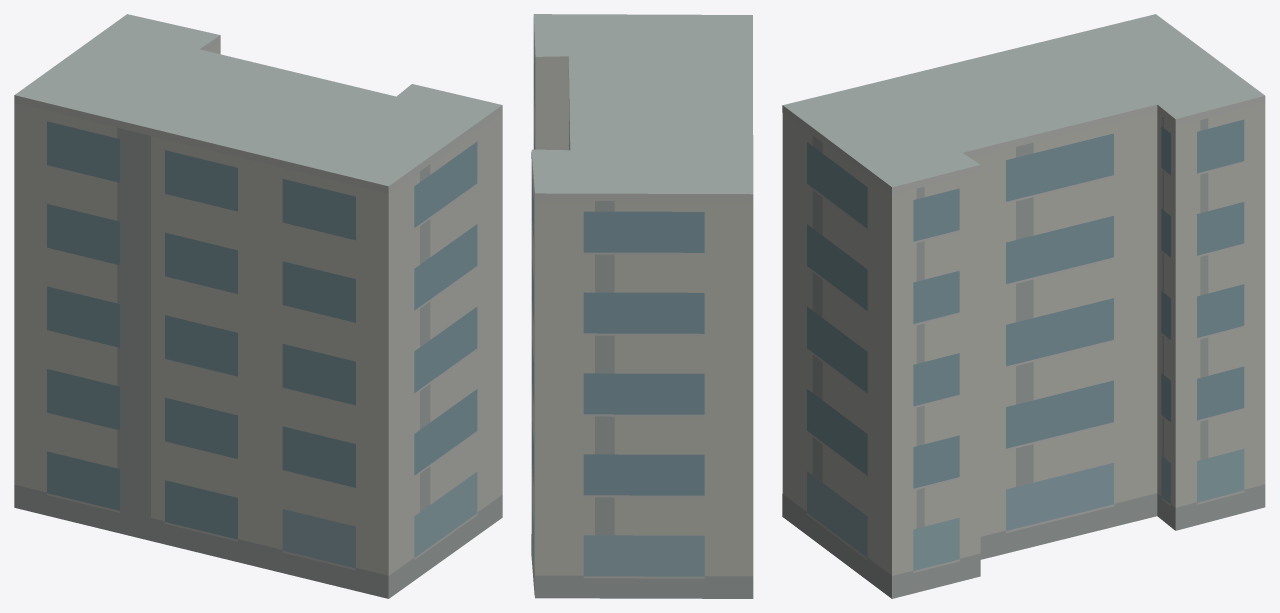
Rendered from survey-upis-32722772.glb.
3 views of the same model, side by side, from view 1: azimuth 30°, elevation 25°; view 2: azimuth 150°, elevation 25°; view 3: azimuth 270°, elevation 25° (orthographic).
Parts seen in each view (by area): view 1: survey-upis-32722772.tmp; view 2: survey-upis-32722772.tmp; view 3: survey-upis-32722772.tmp.
Boxes of the visible parts, x1,y1,x2,y2 form: survey-upis-32722772.tmp: [14, 14, 502, 598]; survey-upis-32722772.tmp: [531, 14, 753, 598]; survey-upis-32722772.tmp: [782, 14, 1265, 598].
Size of the model in its own units: 12.11 by 13.4 by 14.25.
